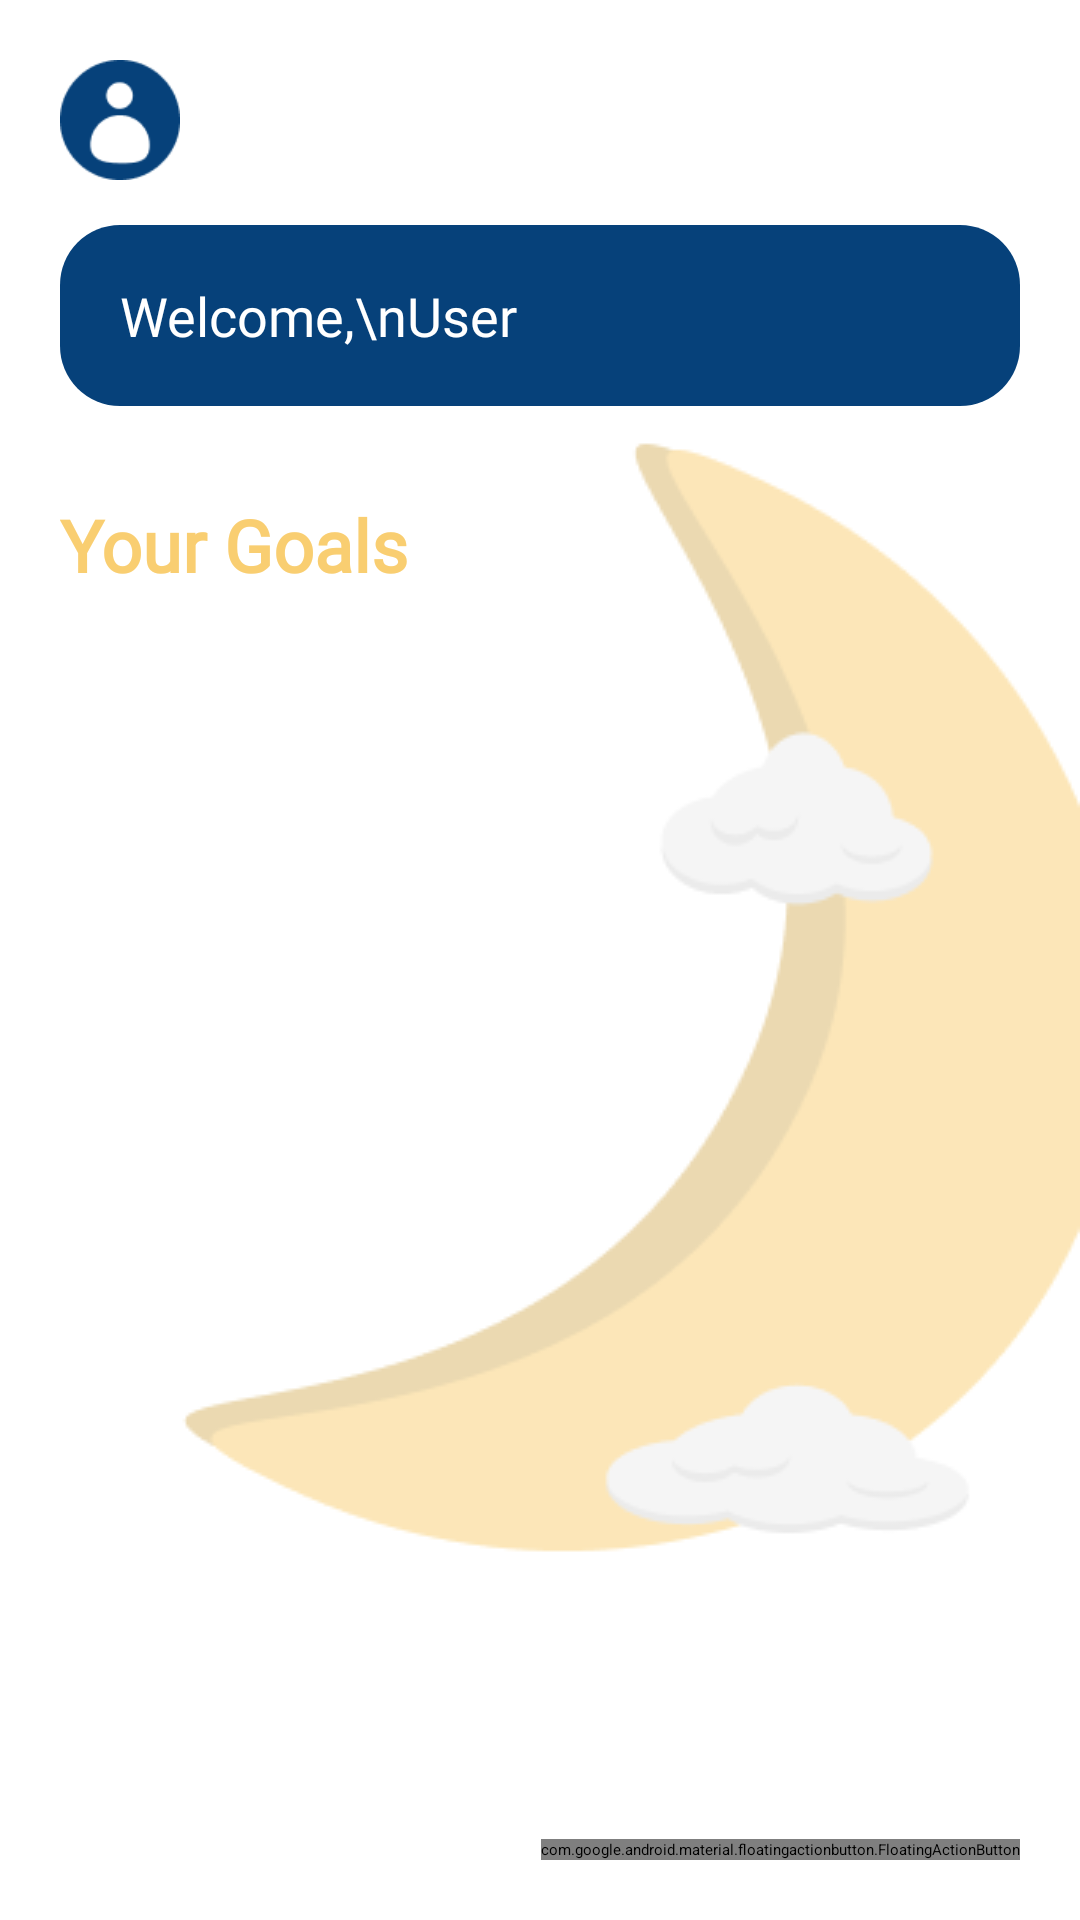

Screen size 1080 x 1920. Icon name, then its box in pixels as (x1, y1, x2, y2):
profile: (60, 60, 180, 180)
